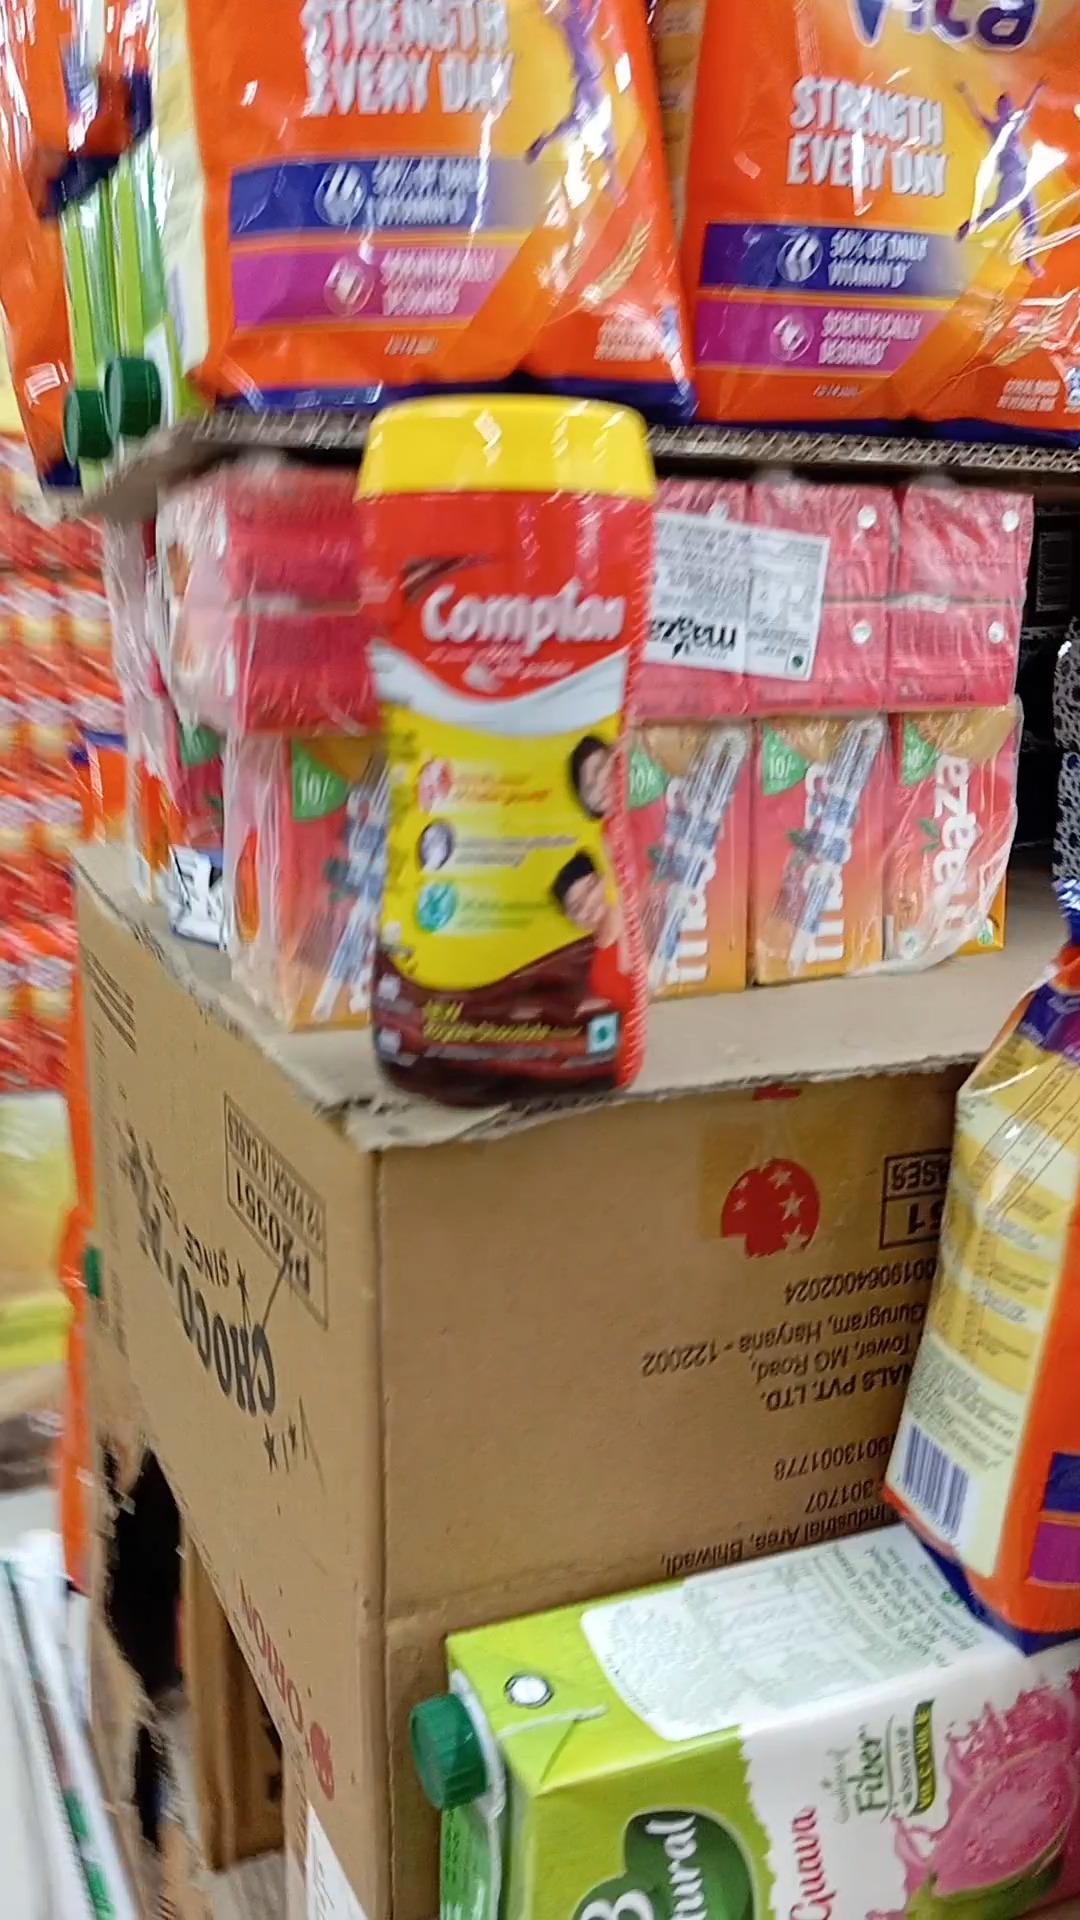COMPLAN_CHOCOLATE_200_GMS_JAR: (357, 386, 654, 1097)
